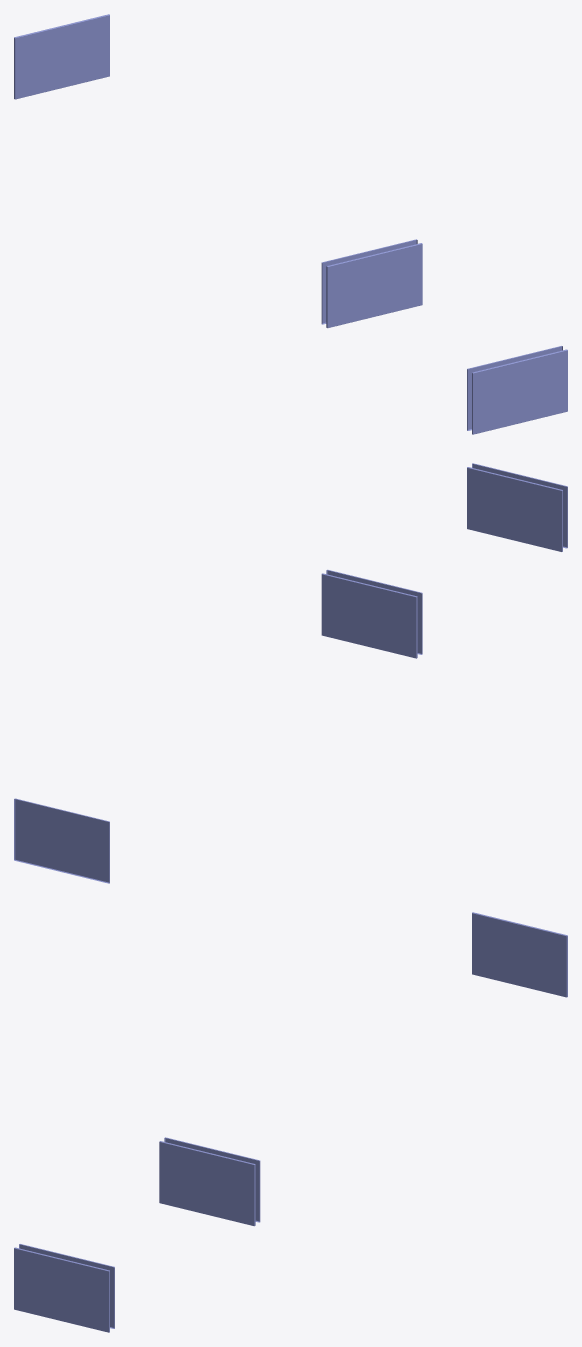
The model's file is Hall01_Painting_LeftSide.FBX.
The picture shows the model from 3 angles, top to bottom: view 1: azimuth 30°, elevation 25°; view 2: azimuth 150°, elevation 25°; view 3: azimuth 330°, elevation 25°; orthographic projection.
Visible parts, largest first — view 1: Hall01_Painting_03, Hall01_Painting_05, Hall01_Painting_01, Hall01_Painting_02, Hall01_Painting_04; view 2: Hall01_Painting_02, Hall01_Painting_01, Hall01_Painting_04, Hall01_Painting_03, Hall01_Painting_05; view 3: Hall01_Painting_03, Hall01_Painting_05, Hall01_Painting_01, Hall01_Painting_02, Hall01_Painting_04.
Boxes of the visible parts, bbox=[...] form: Hall01_Painting_03: bbox=[326, 243, 422, 328]; Hall01_Painting_05: bbox=[472, 349, 567, 434]; Hall01_Painting_01: bbox=[14, 14, 109, 99]; Hall01_Painting_02: bbox=[321, 239, 417, 324]; Hall01_Painting_04: bbox=[467, 346, 562, 430]; Hall01_Painting_02: bbox=[321, 573, 417, 658]; Hall01_Painting_01: bbox=[14, 798, 109, 883]; Hall01_Painting_04: bbox=[467, 467, 562, 551]; Hall01_Painting_03: bbox=[326, 569, 422, 654]; Hall01_Painting_05: bbox=[472, 463, 567, 548]; Hall01_Painting_03: bbox=[159, 1141, 255, 1226]; Hall01_Painting_05: bbox=[14, 1247, 109, 1332]; Hall01_Painting_01: bbox=[472, 912, 567, 997]; Hall01_Painting_02: bbox=[164, 1137, 260, 1222]; Hall01_Painting_04: bbox=[19, 1244, 114, 1328].
Size of the model in its own units: 2123 by 1314 by 17693.
